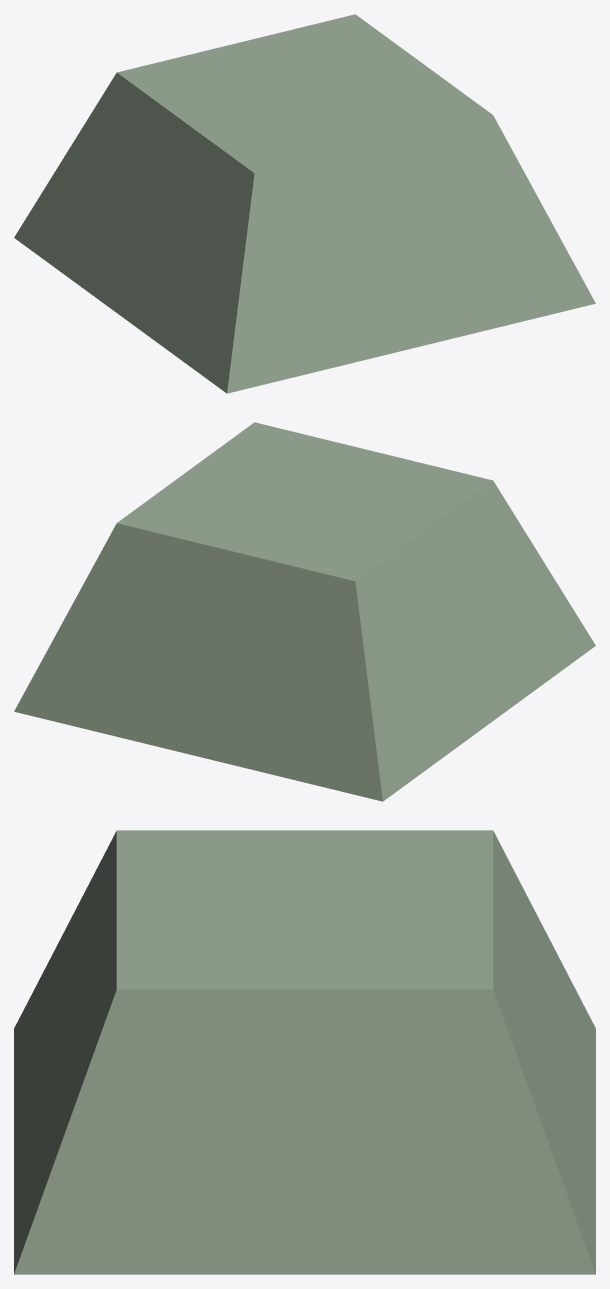
The model's file is rock_grey_03.fbx.
The picture shows the model from 3 angles, top to bottom: view 1: azimuth 30°, elevation 25°; view 2: azimuth 150°, elevation 25°; view 3: azimuth 270°, elevation 25°; orthographic projection. The views are drawn at different scales.
Parts seen in each view (by area): view 1: rock_grey_03; view 2: rock_grey_03; view 3: rock_grey_03.
Part boxes in pixels (left/top/right/bottom): rock_grey_03: left=14, top=14, right=595, bottom=393; rock_grey_03: left=14, top=422, right=595, bottom=801; rock_grey_03: left=14, top=830, right=595, bottom=1274.
Size of the model in its own units: 0.754 by 0.3455 by 0.754.
